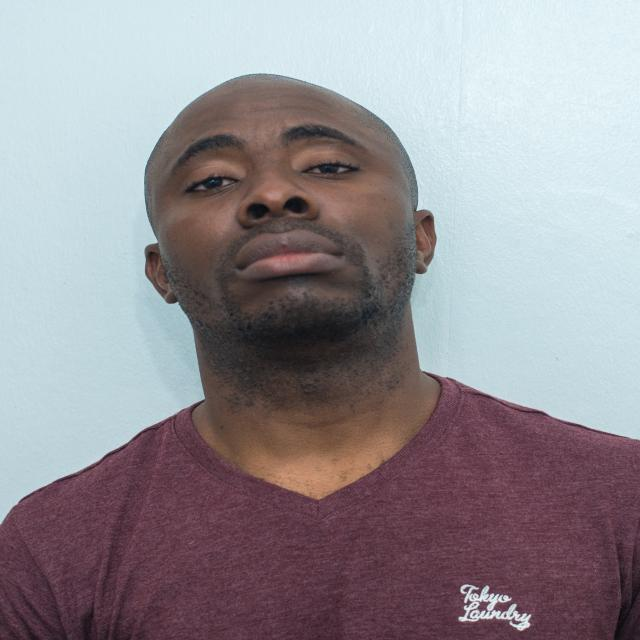sad: (130, 64, 443, 349)
